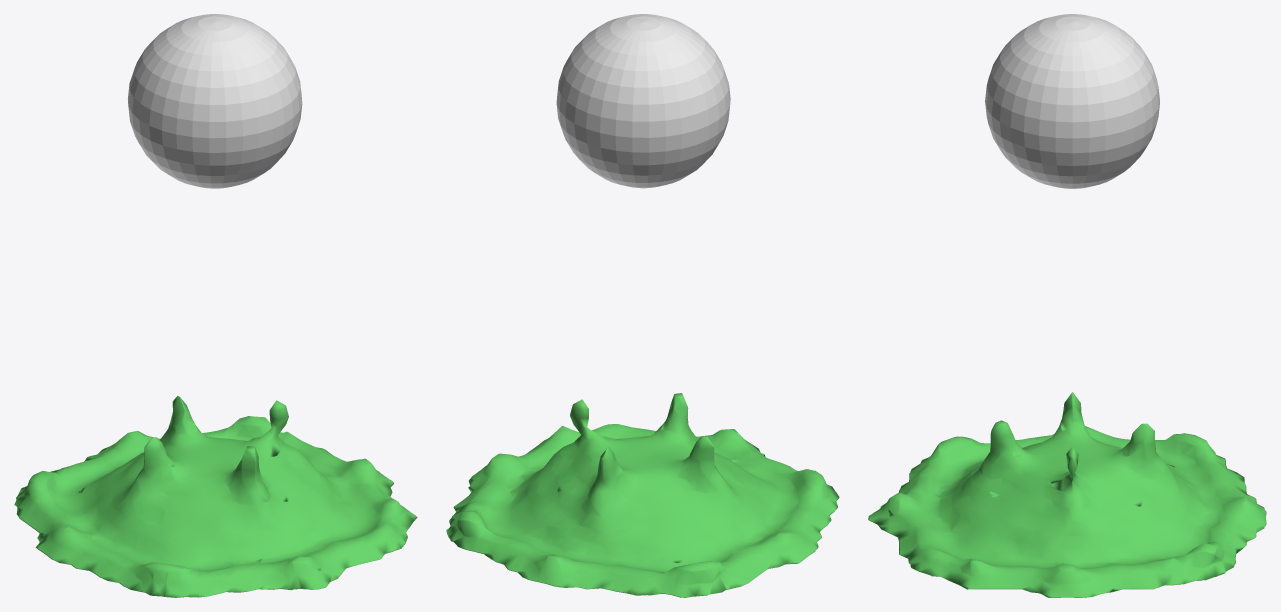
Rendered from puddle.fbx.
3 views of the same model, side by side, from view 1: azimuth 30°, elevation 25°; view 2: azimuth 150°, elevation 25°; view 3: azimuth 270°, elevation 25° (orthographic).
Visible parts, largest first — view 1: Cube, Sphere; view 2: Cube, Sphere; view 3: Cube, Sphere.
Boxes of the visible parts, <box> form: Cube: <box>14,396,417,597</box>; Sphere: <box>128,14,302,188</box>; Cube: <box>446,393,839,597</box>; Sphere: <box>556,14,730,188</box>; Cube: <box>868,392,1266,597</box>; Sphere: <box>985,14,1159,188</box>.
Bounding box in the file's own units: 375 × 534 × 385.
